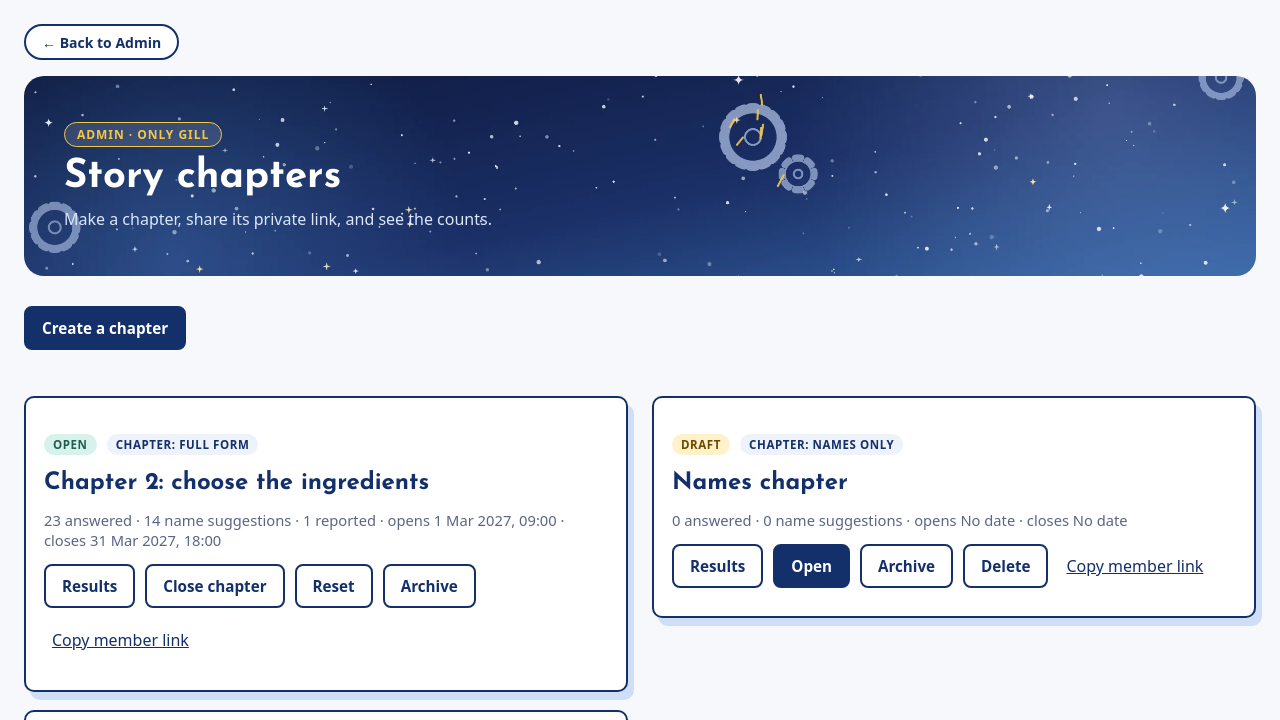
Test: making a round › says what is missing in plain words
The width and height of the screenshot is (1280, 720).
Click the button "Create a chapter": (105, 328) [24,306,186,350]
(page scrolled)
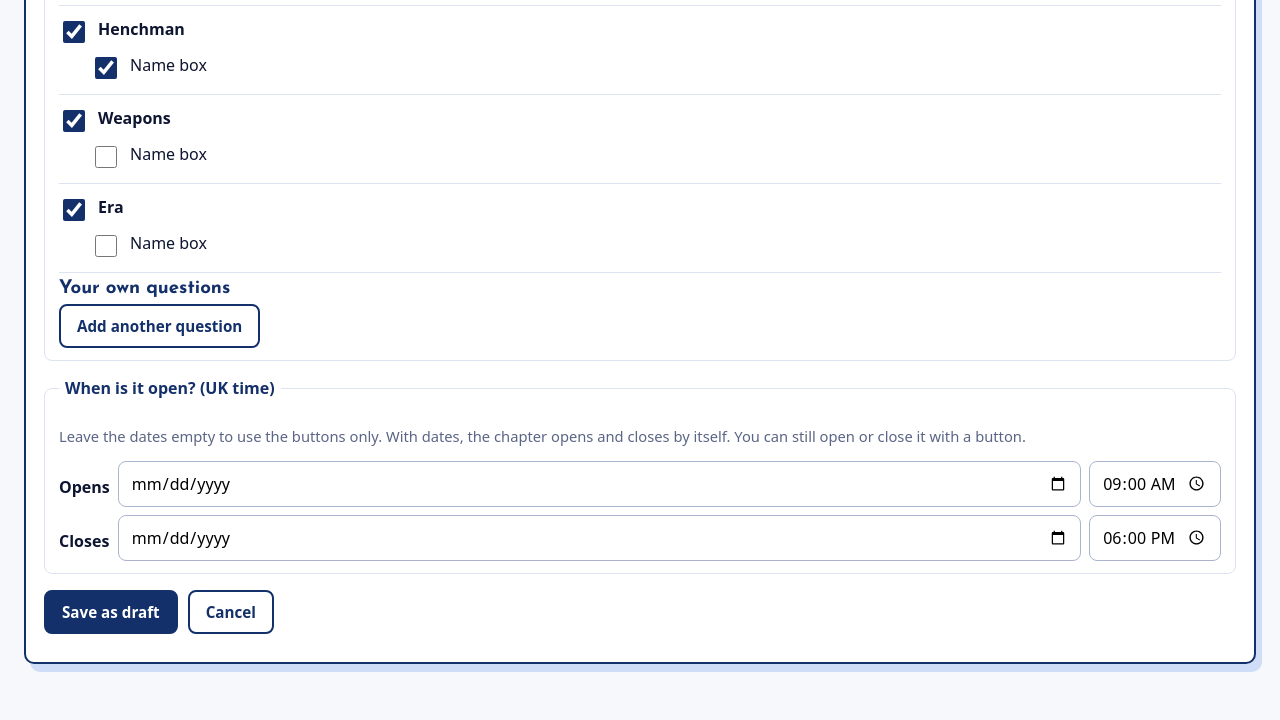
Click the button "Save as draft": (111, 612) [44,590,178,634]
(page scrolled)
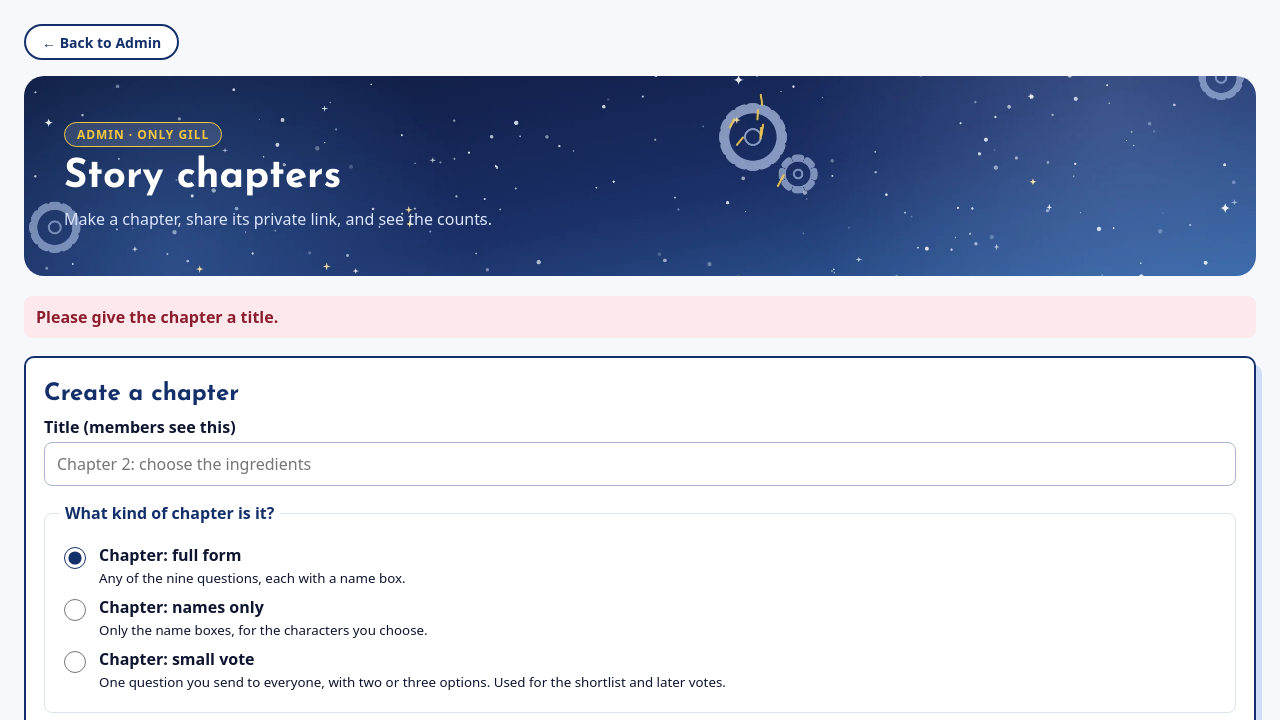
Result: the message reads "Please give the chapter a title." at [36,306,278,328]
